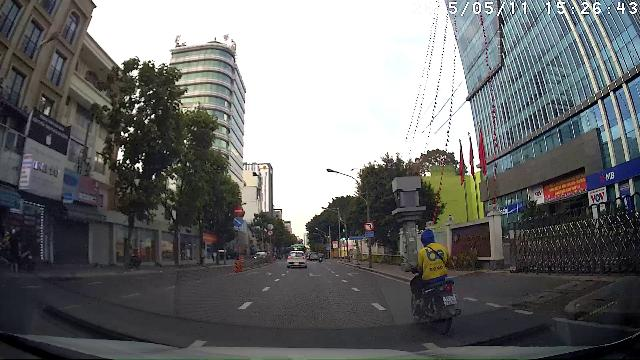123a-cam-re-trai: (364, 221, 374, 231)
